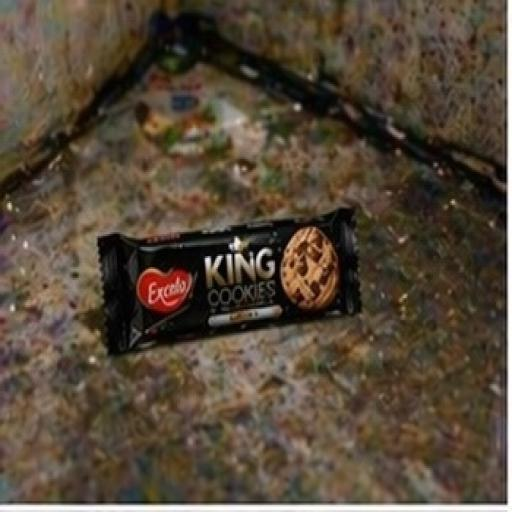king-cooking: (65, 156, 399, 377)
